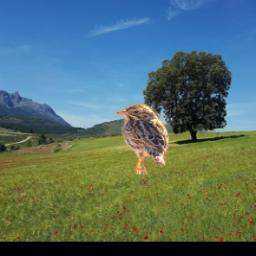Sparrow: (114, 104, 170, 175)
